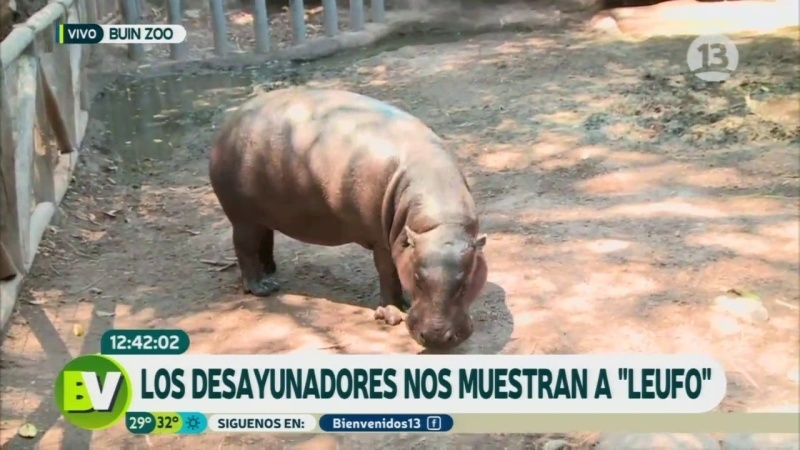hipopotamo: (195, 81, 497, 353)
